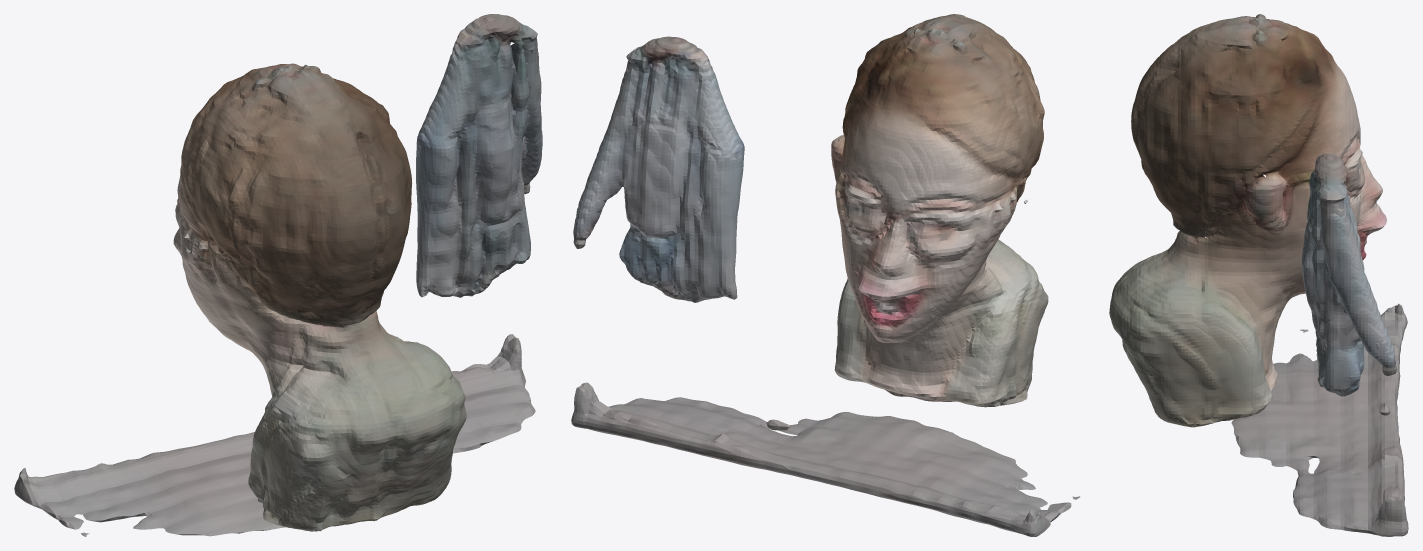
The model's file is tmpv2t_b_qg.glb.
3 renders of one model, left to right at view 1: azimuth 30°, elevation 25°; view 2: azimuth 150°, elevation 25°; view 3: azimuth 270°, elevation 25°, orthographic. The views are drawn at different scales.
Visible parts, largest first — view 1: world; view 2: world; view 3: world.
Part boxes in pixels (bbox=[...]): world: bbox=[14, 14, 542, 536]; world: bbox=[571, 14, 1080, 536]; world: bbox=[1109, 14, 1408, 536].
Bounding box in the file's own units: 1.03 × 0.8779 × 0.6012.
